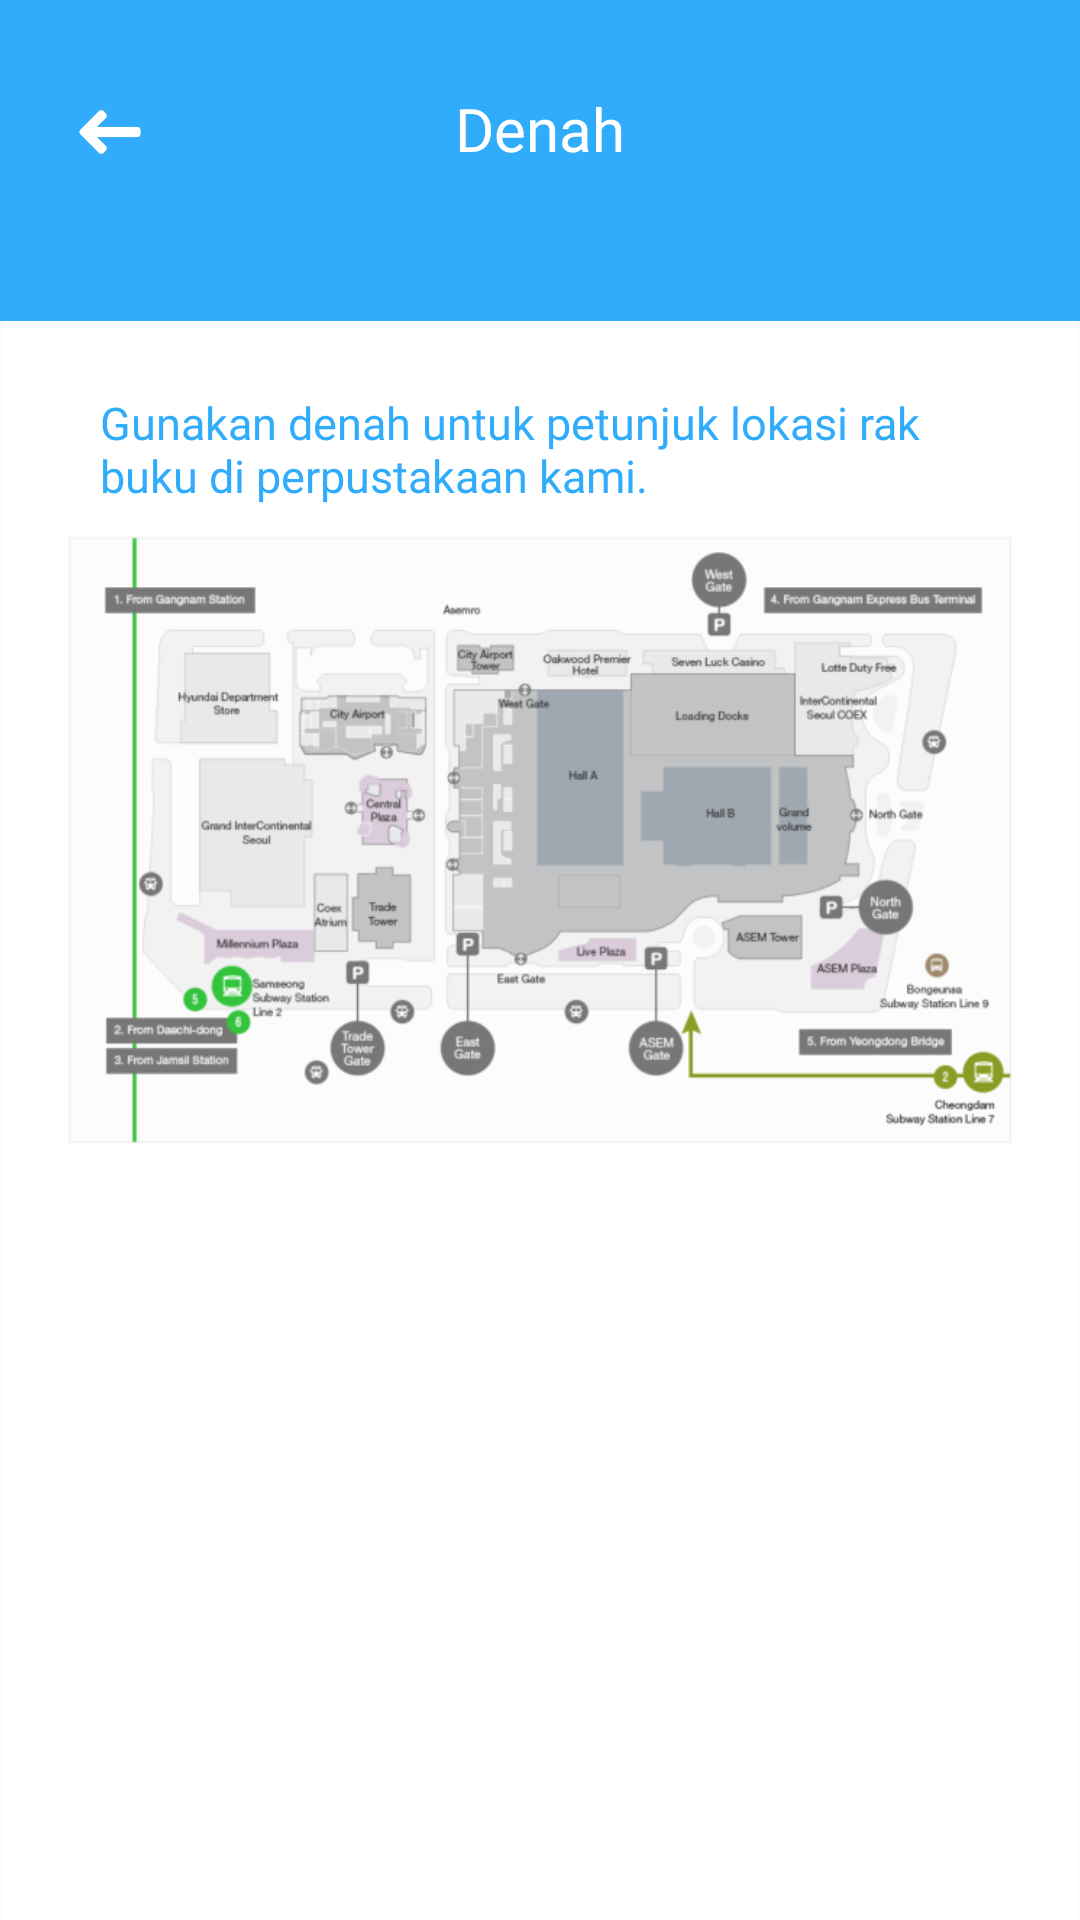

Icon bounding boxes for this 1080w x 1920h phone screenshot, format (x1, y1, x2, y2):
back: (79, 110, 141, 154)
